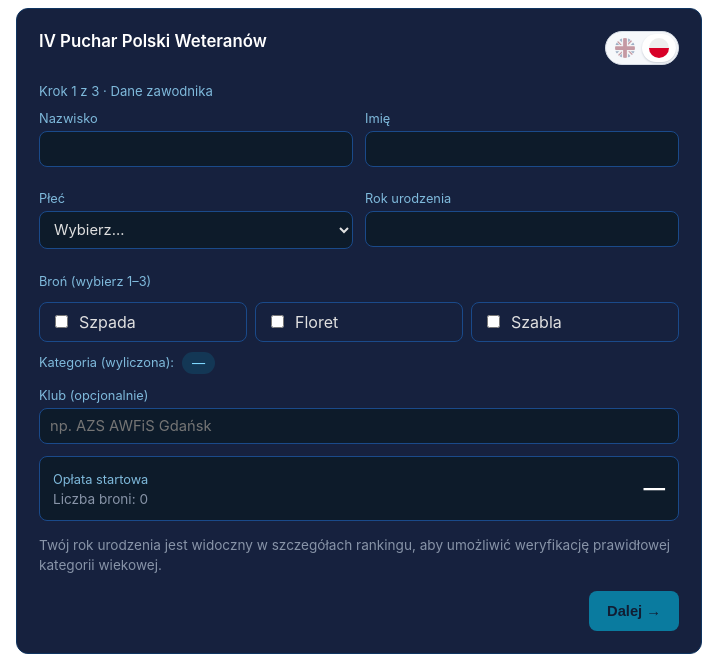
it: RegistrationForm — identity step (P2.3) › computes the V-cat live from birth year and season end year
Check: the text "IV Puchar Polski Weteranów" is shown, box [39,31,267,51]
Type "1971" into the number field named "birthYear" at (522, 229), box [365,211,679,247]
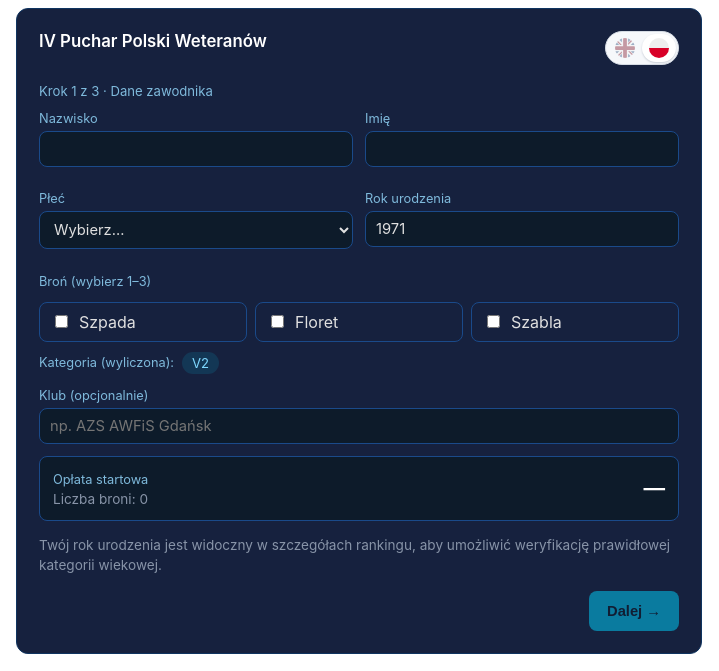
Check: the text "V2" is shown, box [182,352,219,374]
